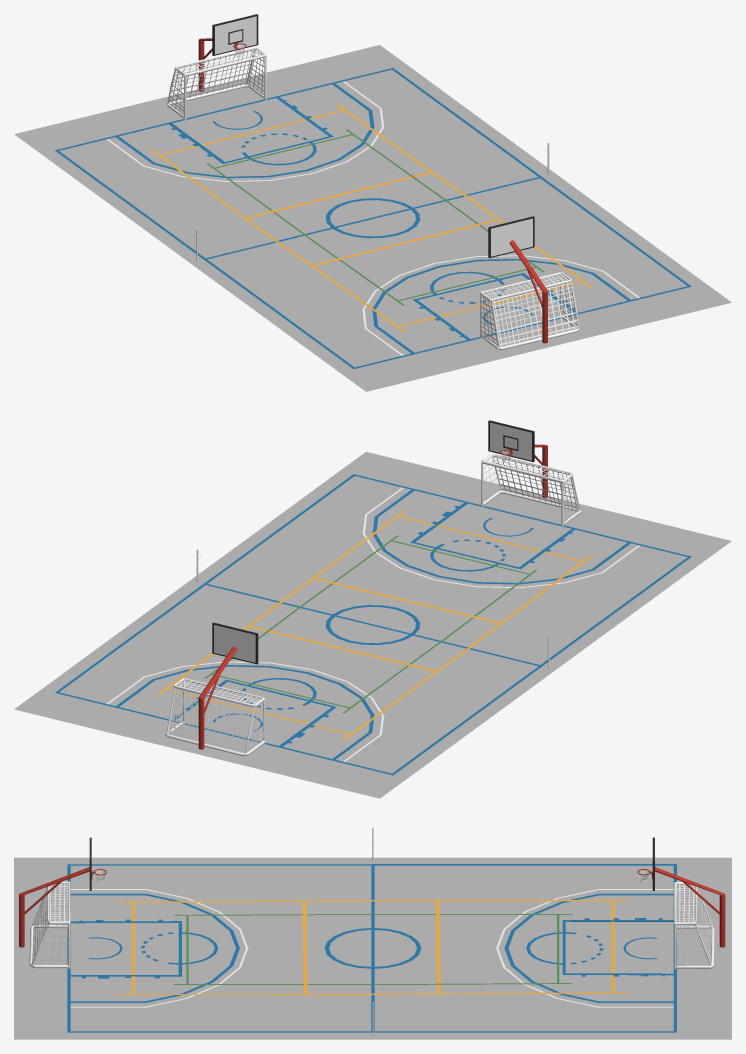
File: sport_court.glb
3 renders of one model, top to bottom at view 1: azimuth 30°, elevation 25°; view 2: azimuth 150°, elevation 25°; view 3: azimuth 270°, elevation 25°, orthographic.
Parts seen in each view (by area): view 1: Object_3, Object_10, Object_19, Object_18, Object_16, Object_6, Object_8, Object_15, Object_17, Object_4, Object_14, Object_9; view 2: Object_3, Object_10, Object_19, Object_16, Object_18, Object_8, Object_6, Object_15, Object_17, Object_11, Object_9, Object_4; view 3: Object_3, Object_10, Object_19, Object_18, Object_16, Object_6, Object_8, Object_15, Object_17, Object_11, Object_14, Object_9 (+1 smaller).
Part boxes in pixels (<box>): Object_3: <box>14,45,731,391</box>; Object_10: <box>167,16,579,349</box>; Object_19: <box>55,68,691,325</box>; Object_18: <box>57,68,391,178</box>; Object_16: <box>355,258,688,368</box>; Object_6: <box>150,104,466,242</box>; Object_8: <box>278,195,592,332</box>; Object_15: <box>106,81,639,355</box>; Object_17: <box>205,111,505,369</box>; Object_4: <box>206,129,446,235</box>; Object_14: <box>509,240,547,343</box>; Object_9: <box>305,200,543,305</box>; Object_3: <box>14,452,731,798</box>; Object_10: <box>165,422,581,755</box>; Object_19: <box>55,474,542,775</box>; Object_16: <box>355,475,688,584</box>; Object_18: <box>58,665,391,774</box>; Object_8: <box>280,510,591,647</box>; Object_6: <box>157,601,470,740</box>; Object_15: <box>107,487,639,761</box>; Object_17: <box>212,539,691,731</box>; Object_11: <box>198,646,237,749</box>; Object_9: <box>300,535,536,641</box>; Object_4: <box>204,606,442,713</box>; Object_3: <box>14,857,731,1039</box>; Object_10: <box>29,827,714,968</box>; Object_19: <box>67,864,676,1032</box>; Object_18: <box>504,865,676,1031</box>; Object_16: <box>67,865,239,1031</box>; Object_6: <box>370,900,629,994</box>; Object_8: <box>116,900,371,995</box>; Object_15: <box>70,889,673,1007</box>; Object_17: <box>67,864,657,964</box>; Object_11: <box>637,867,725,947</box>; Object_14: <box>19,867,106,947</box>; Object_9: <box>173,914,371,984</box>.
Size of the model in its own units: 19.86 by 5.07 by 33.1.
